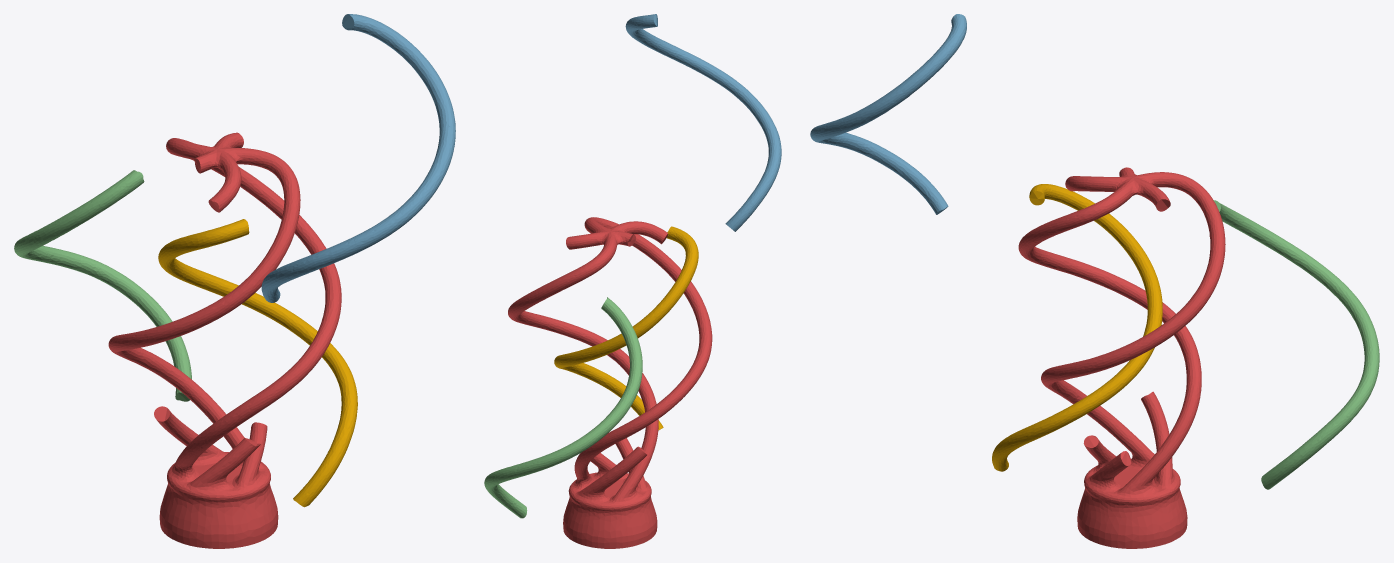
File: mode_4_4pcs_transformed.glb
The picture shows the model from 3 angles, left to right: view 1: azimuth 30°, elevation 25°; view 2: azimuth 150°, elevation 25°; view 3: azimuth 270°, elevation 25°; orthographic projection. The views are drawn at different scales.
Parts seen in each view (by area): view 1: piece_1.obj, piece_2.obj, piece_0.obj, piece_3.obj; view 2: piece_1.obj, piece_3.obj, piece_2.obj, piece_0.obj; view 3: piece_1.obj, piece_3.obj, piece_0.obj, piece_2.obj.
Boxes of the visible parts, bbox=[...] form: piece_1.obj: bbox=[108, 132, 341, 548]; piece_2.obj: bbox=[261, 14, 455, 302]; piece_0.obj: bbox=[158, 219, 357, 507]; piece_3.obj: bbox=[14, 170, 191, 401]; piece_1.obj: bbox=[508, 217, 712, 548]; piece_3.obj: bbox=[484, 297, 642, 518]; piece_2.obj: bbox=[625, 14, 781, 231]; piece_0.obj: bbox=[554, 226, 698, 430]; piece_1.obj: bbox=[1018, 167, 1225, 548]; piece_3.obj: bbox=[1213, 200, 1379, 489]; piece_0.obj: bbox=[992, 184, 1162, 471]; piece_2.obj: bbox=[810, 14, 966, 214].
Bounding box in the file's own units: 0.6206 × 1.52 × 1.48.
